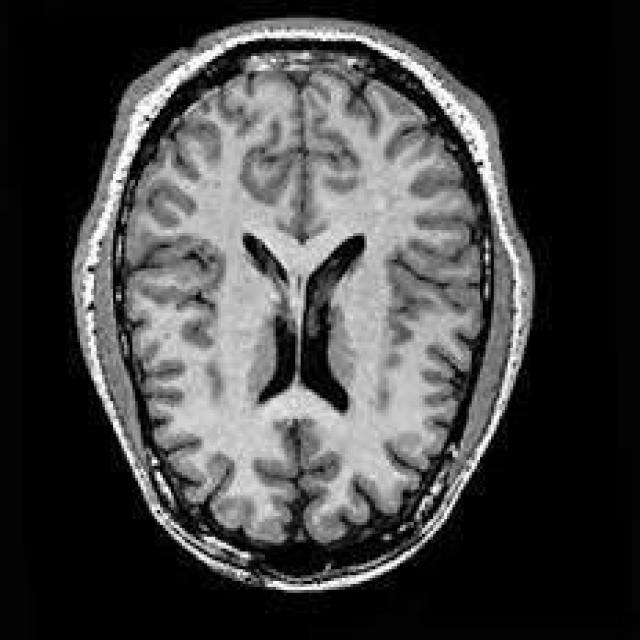notumor: (74, 21, 530, 590)
